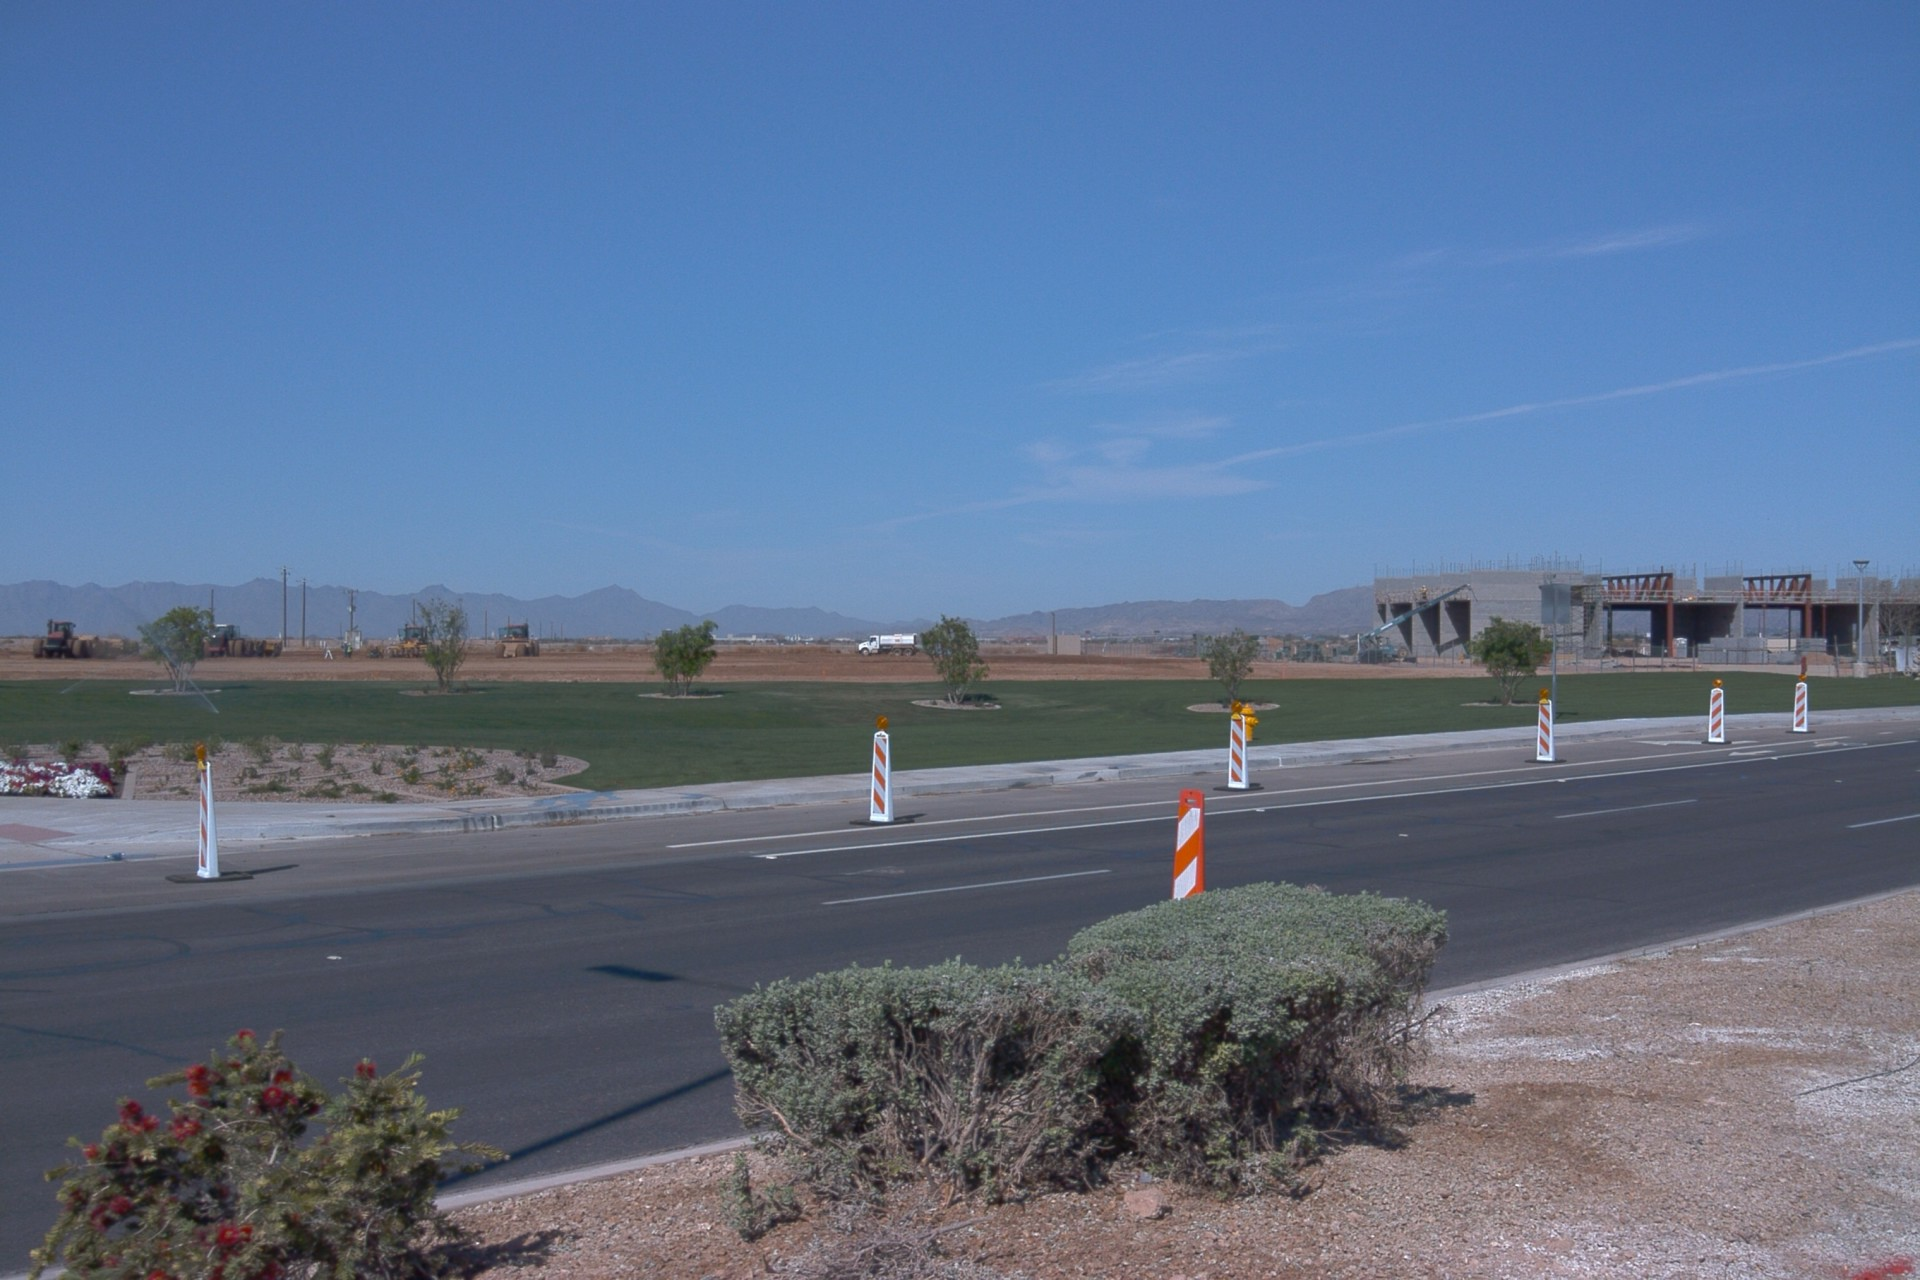TYPE_PEDESTRIAN: (346, 643, 355, 659)
TYPE_VEHICLE: (1359, 582, 1477, 657), (204, 622, 284, 660), (29, 617, 89, 660), (860, 629, 926, 660)
